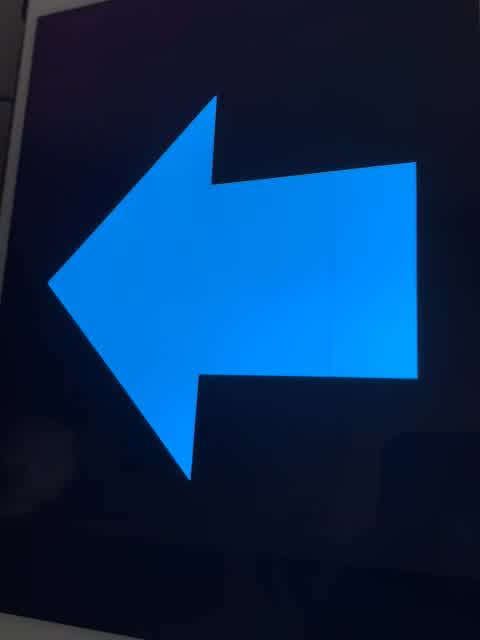left: (42, 88, 430, 488)
